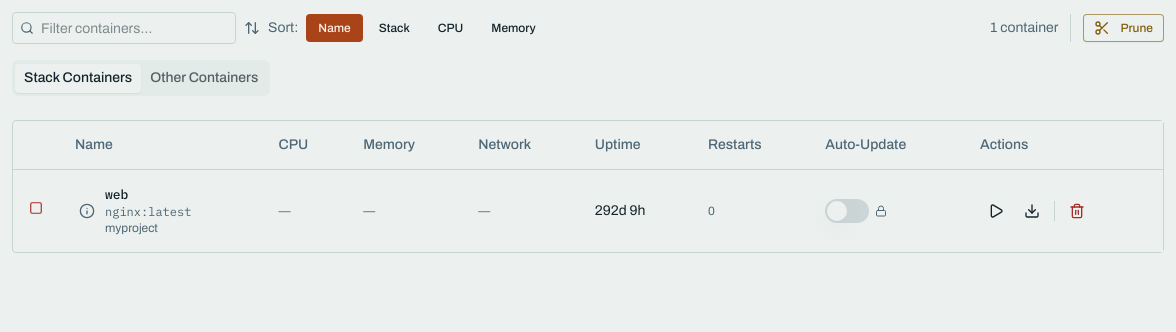
Test: ContainersOverviewTab — a compose project with no stack record › keeps a row whose stack lookup FAILED in stack mode, rather than reclassifying it
Expected: the button named "Start stack" is shown, [980, 195, 1012, 227]
Click the tab "Other Containers" at point(204, 78), box [141, 64, 267, 92]
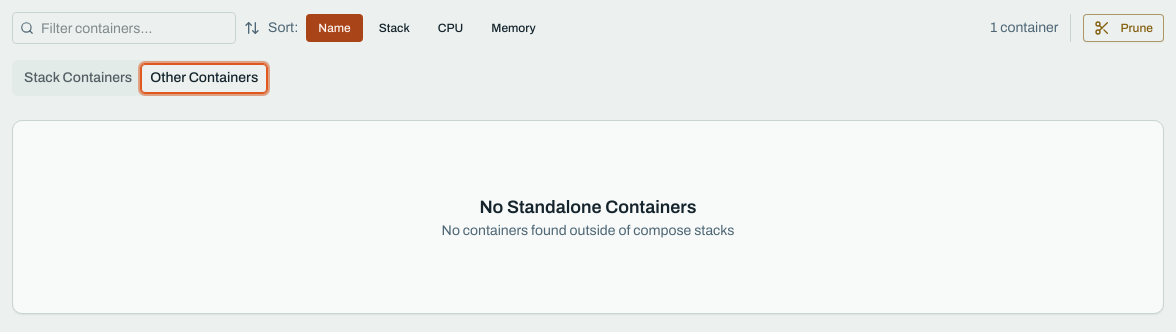
Expected: the text "No Standalone Containers" is shown, [479, 193, 697, 221]
